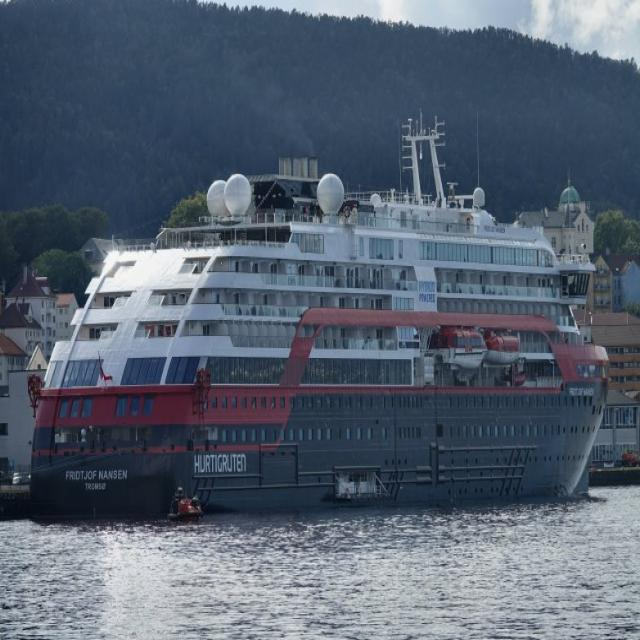cruises: (30, 115, 619, 520)
